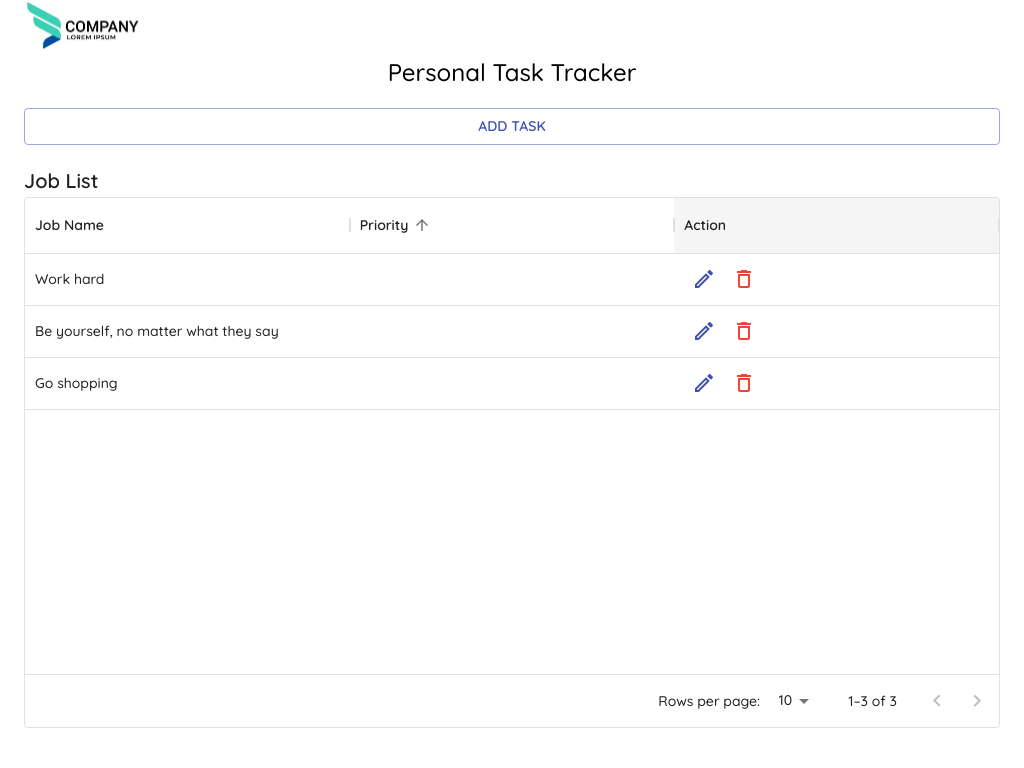
Test case: test delete task
The image size is (1024, 768).
Expected: the text "Work hard" is shown, [35,269,104,289]
first delete button, find and click
Click the 1st button with class "btn-icon-delete" at (744, 279), box [724,259,764,299]
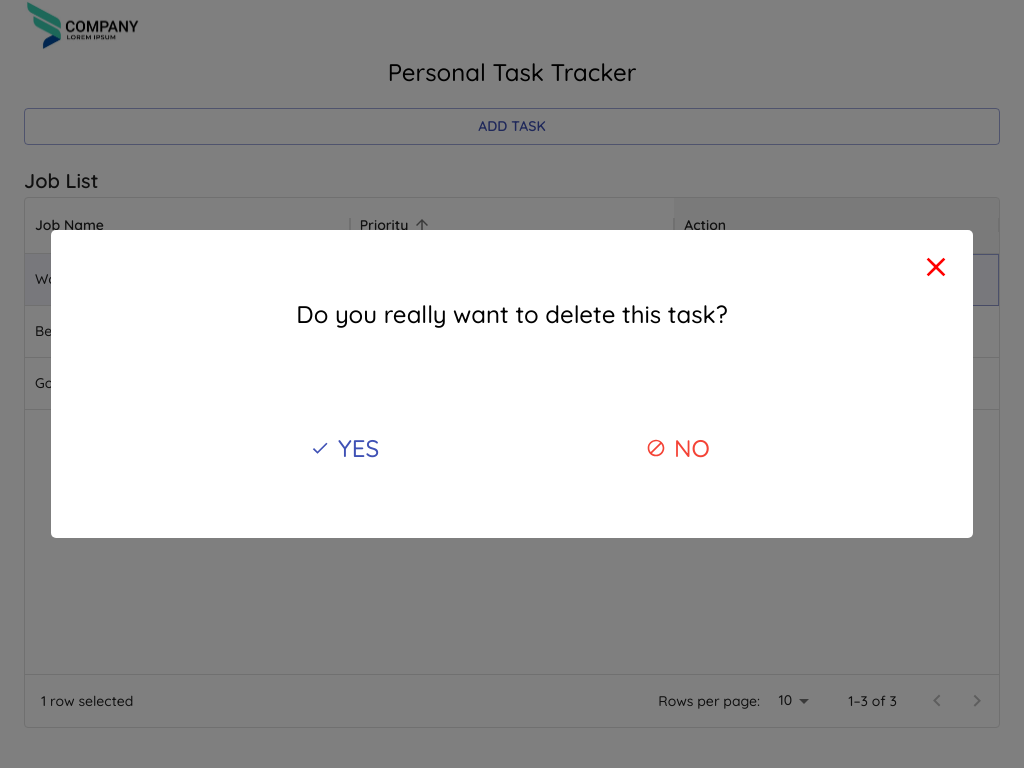
confirm button, find and click
Click the button with class "btn-yes" at (347, 448), box [306,426,387,470]
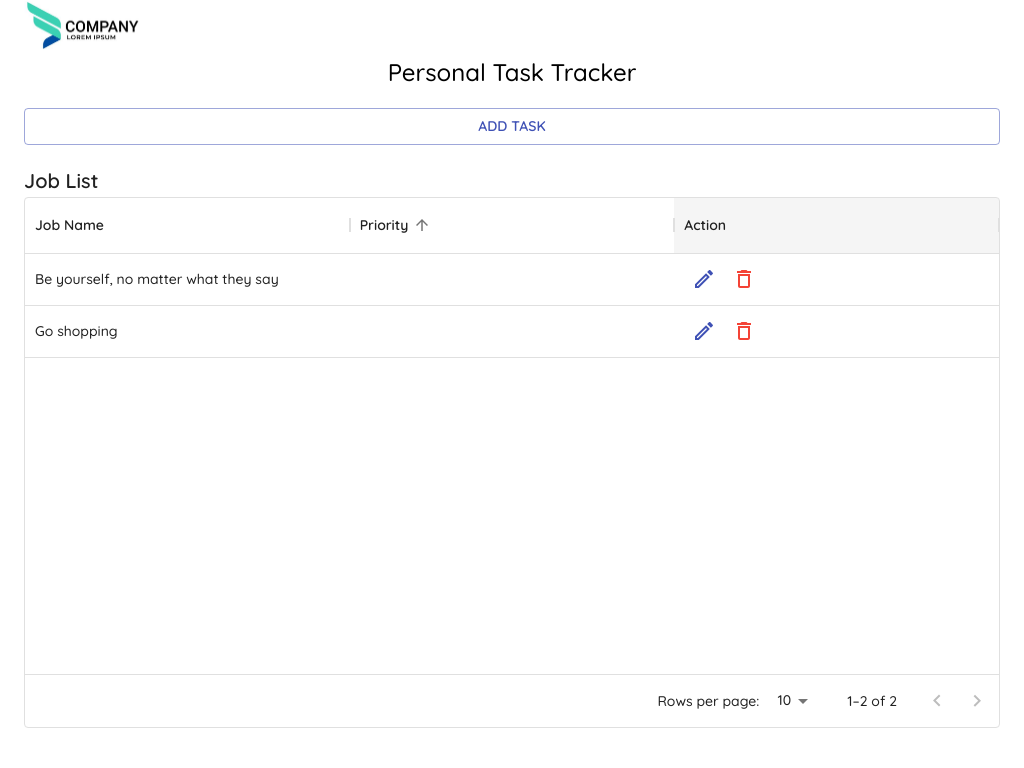
Result: the text "Work hard" is gone
